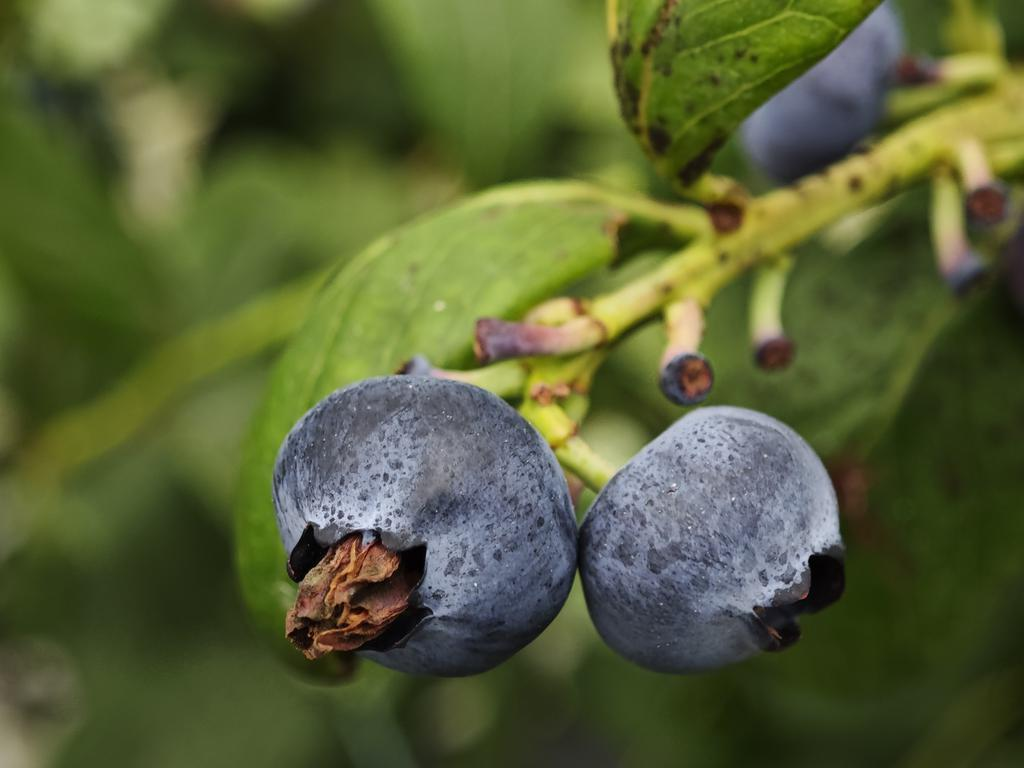RipeBlueBerry: (287, 370, 574, 676), (581, 403, 843, 676)
